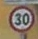limite 30: (7, 4, 35, 33)
